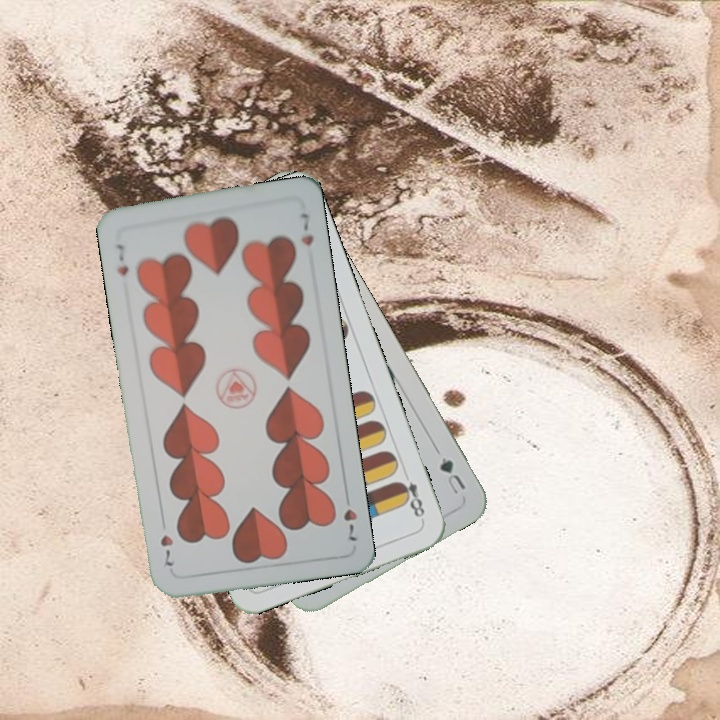E8: (393, 467, 427, 524)
GU: (435, 453, 469, 497)
H7: (339, 488, 360, 545), (112, 240, 131, 279)
